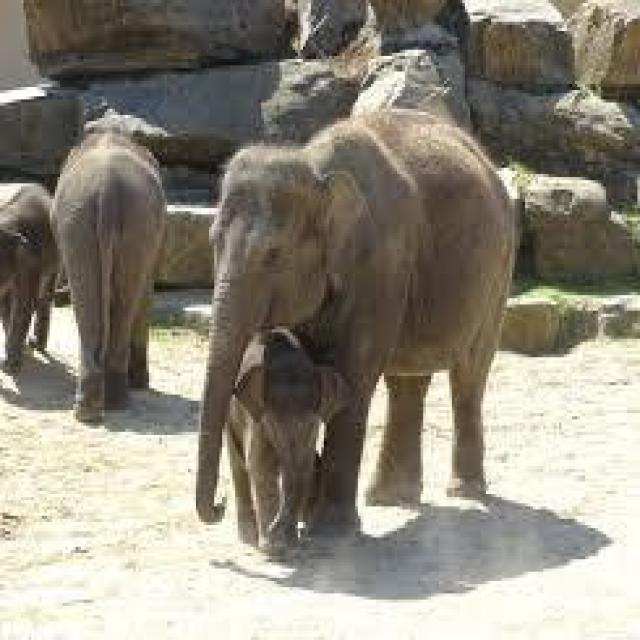Elephant: (201, 105, 504, 540), (50, 106, 159, 420), (230, 342, 345, 537)
